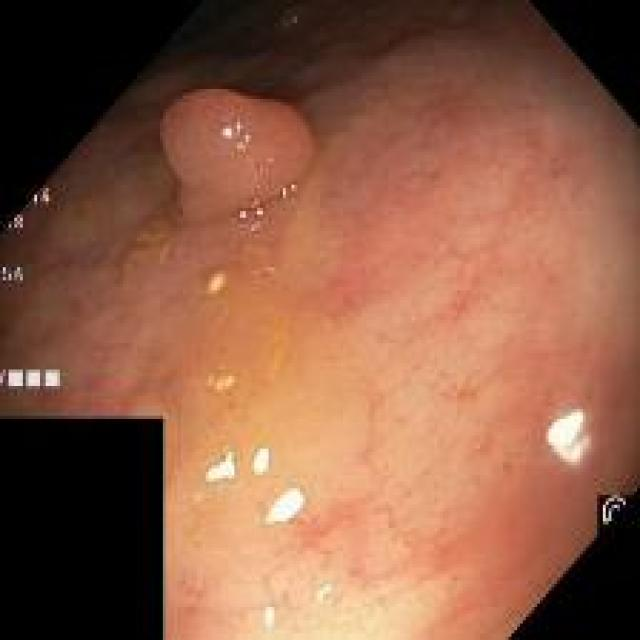Polyps: (161, 88, 315, 225)
